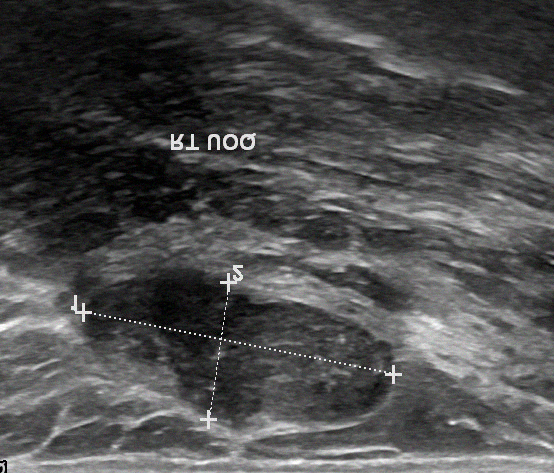Malignant: (93, 253, 385, 413)
